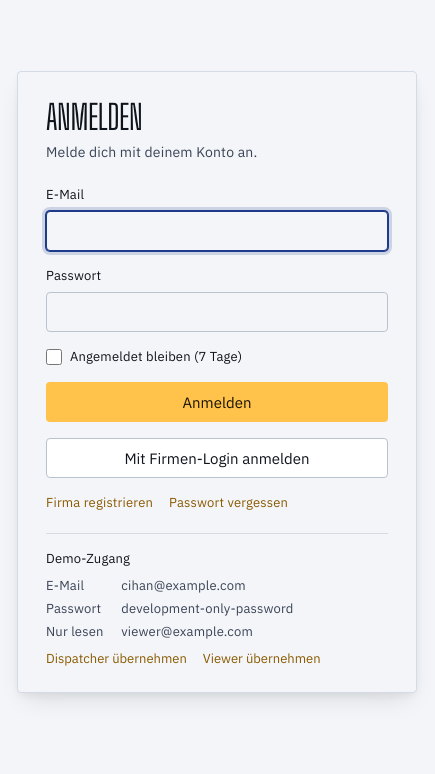
Test case: login page › offers to resend the confirmation mail
Type "neu@example.com" into the field labelled "E-Mail". click: (217,231)
box: [46,211,388,251]
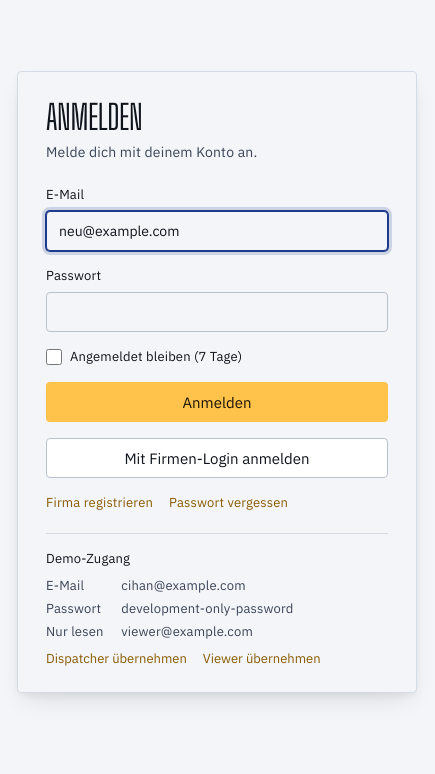
Type "development-only-password" into the password field labelled "Passwort". click: (217,312)
box: [46,292,388,332]
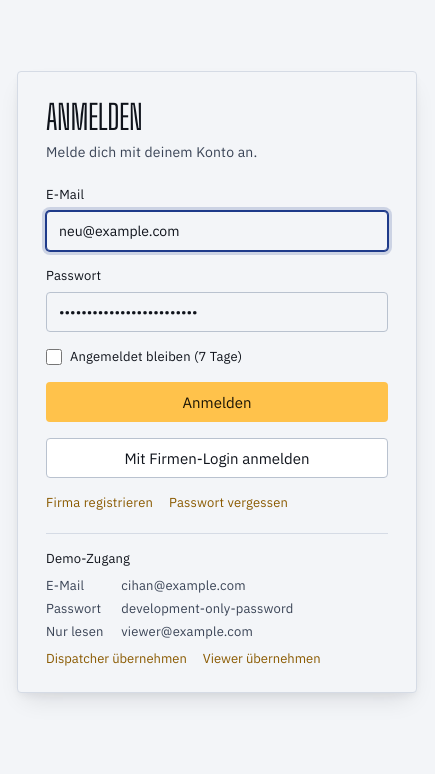
Submit the form "Anmelden", box [46,186,388,478]
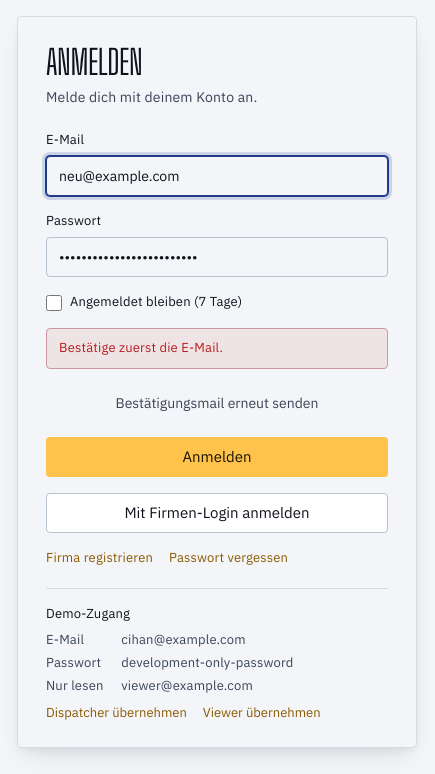
Now the message reads "Bestätige zuerst die E-Mail.", box [59,339,223,356]
Click the button "Bestätigungsmail erneut senden". click: (217,403)
box: [46,385,388,421]
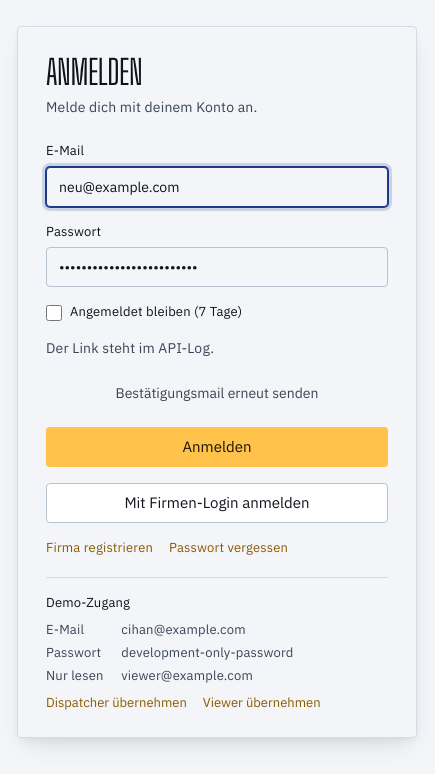
Now the text "Der Link steht im API-Log." is shown, box [46,339,214,357]
